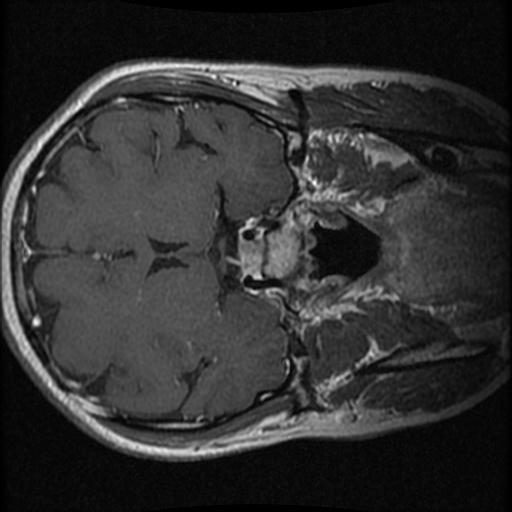pituitary tumour: (238, 241, 262, 274)
